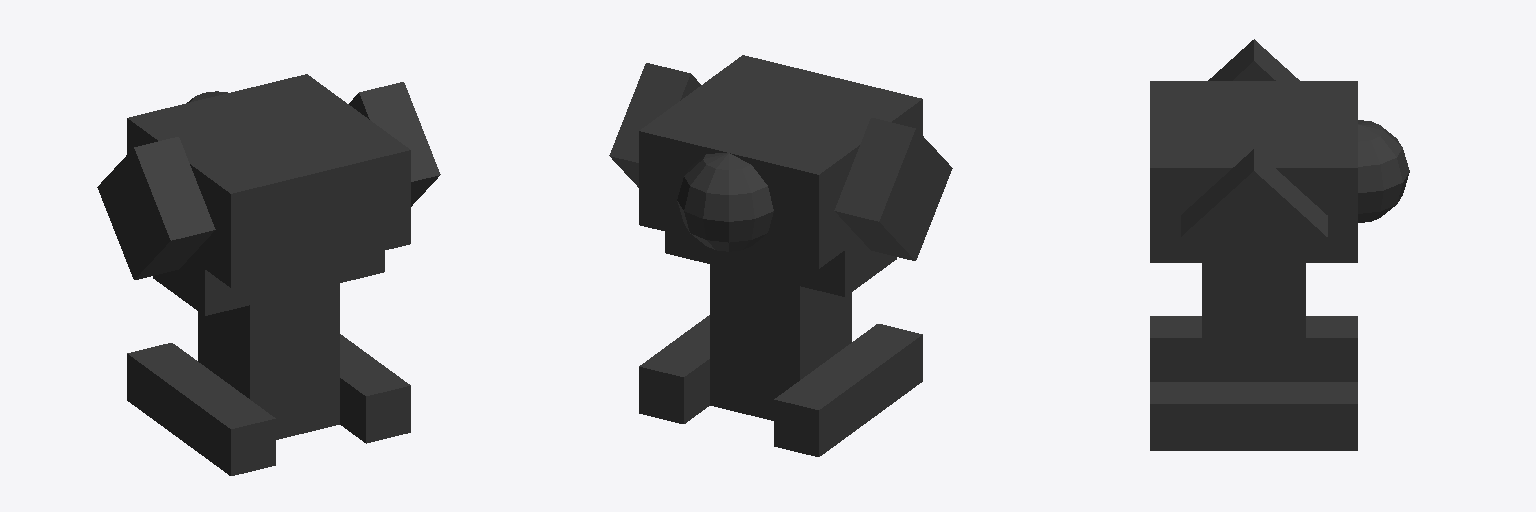
The picture shows the model from 3 angles: view 1: azimuth 30°, elevation 25°; view 2: azimuth 150°, elevation 25°; view 3: azimuth 270°, elevation 25°; orthographic projection.
Parts seen in each view (by area): view 1: cube.000, cube, cube.002, cube.004, cube.001, cube.003, cube.005; view 2: cube.000, cube, cube.002, cube.004, sphere, cube.001, cube.003, cube.005; view 3: cube.000, cube.003, cube.005, cube, cube.002, sphere, cube.001, cube.004.
Part boxes in pixels (left/top/right/bottom): cube.000: left=127, top=74, right=410, bottom=287; cube: left=198, top=283, right=339, bottom=439; cube.002: left=127, top=343, right=275, bottom=475; cube.004: left=97, top=137, right=215, bottom=279; cube.001: left=153, top=251, right=384, bottom=315; cube.003: left=340, top=334, right=410, bottom=443; cube.005: left=349, top=82, right=440, bottom=206; cube.000: left=639, top=55, right=922, bottom=268; cube: left=710, top=264, right=851, bottom=420; cube.002: left=774, top=324, right=922, bottom=456; cube.004: left=834, top=118, right=952, bottom=260; sphere: left=677, top=153, right=773, bottom=251; cube.001: left=665, top=232, right=896, bottom=296; cube.003: left=639, top=315, right=709, bottom=423; cube.005: left=609, top=63, right=700, bottom=187; cube.000: left=1150, top=81, right=1357, bottom=262; cube.003: left=1150, top=382, right=1357, bottom=450; cube.005: left=1181, top=149, right=1327, bottom=303; cube: left=1202, top=310, right=1305, bottom=381; cube.002: left=1150, top=316, right=1357, bottom=381; sphere: left=1358, top=120, right=1409, bottom=222; cube.001: left=1202, top=263, right=1305, bottom=309; cube.004: left=1208, top=39, right=1299, bottom=80.
Size of the model in its own units: 0.375 by 0.4009 by 0.3125.
1 materials, 1 textured.